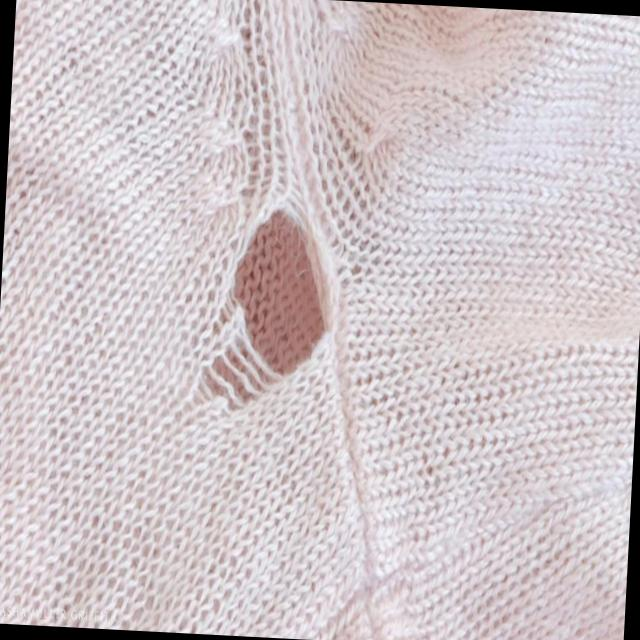cut: (197, 201, 341, 431)
